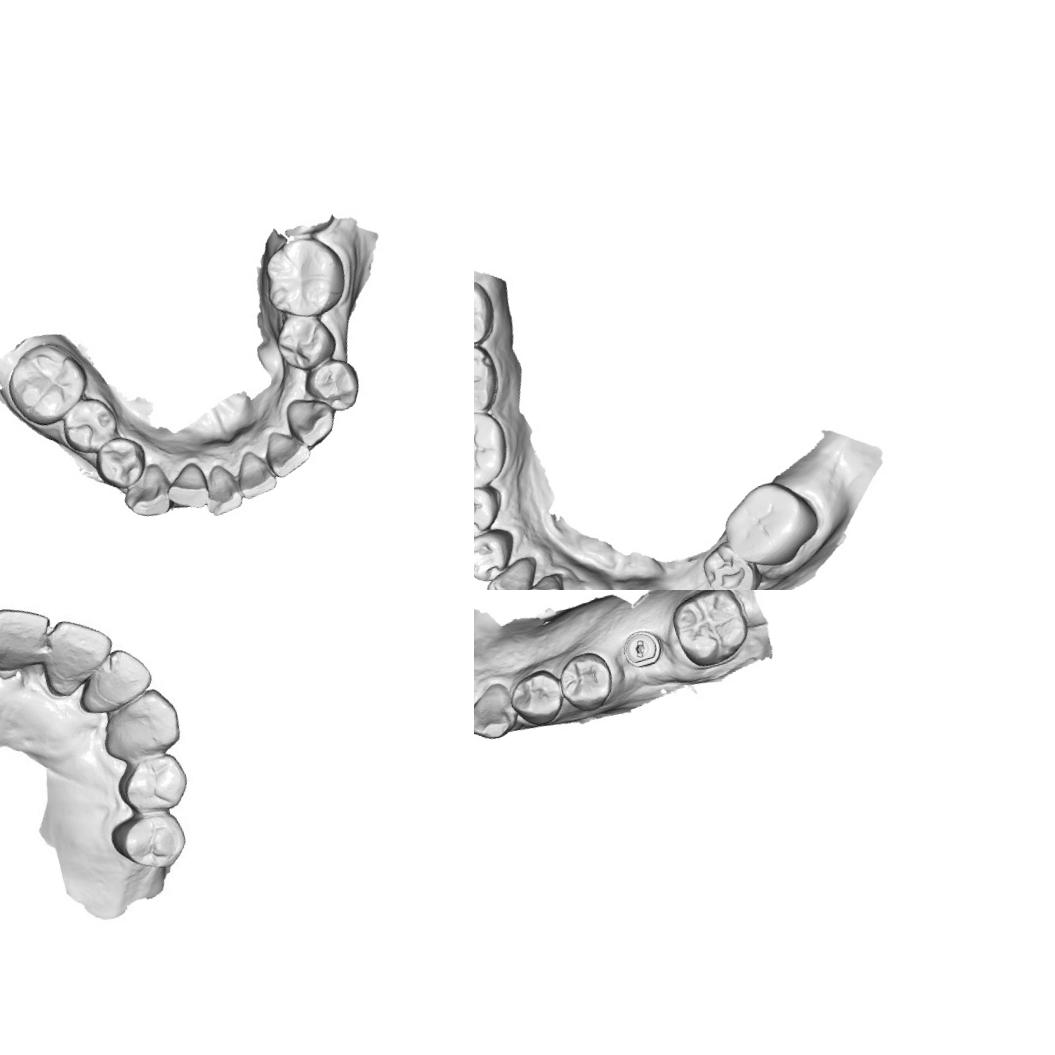canine: (89, 682, 184, 770), (116, 461, 175, 523), (474, 676, 526, 746), (282, 391, 340, 452), (479, 553, 548, 590)
implant_minus: (618, 625, 666, 674)
incisor: (39, 606, 121, 696), (70, 642, 158, 717), (0, 596, 62, 682), (259, 423, 315, 481), (197, 460, 245, 518), (161, 460, 212, 514), (231, 446, 280, 501), (520, 572, 569, 590)
molar: (713, 471, 828, 578), (256, 229, 353, 326), (0, 334, 95, 432), (664, 590, 756, 674), (474, 413, 509, 488), (474, 338, 503, 417), (474, 270, 499, 356)
premolar: (105, 807, 192, 884), (110, 749, 188, 816), (270, 306, 342, 376), (553, 645, 621, 718), (504, 664, 571, 735), (57, 392, 124, 458), (299, 353, 365, 418), (90, 431, 152, 495), (696, 535, 765, 590), (474, 529, 520, 589), (474, 481, 505, 542)
